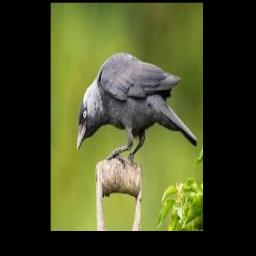Crow: (77, 52, 199, 168)
